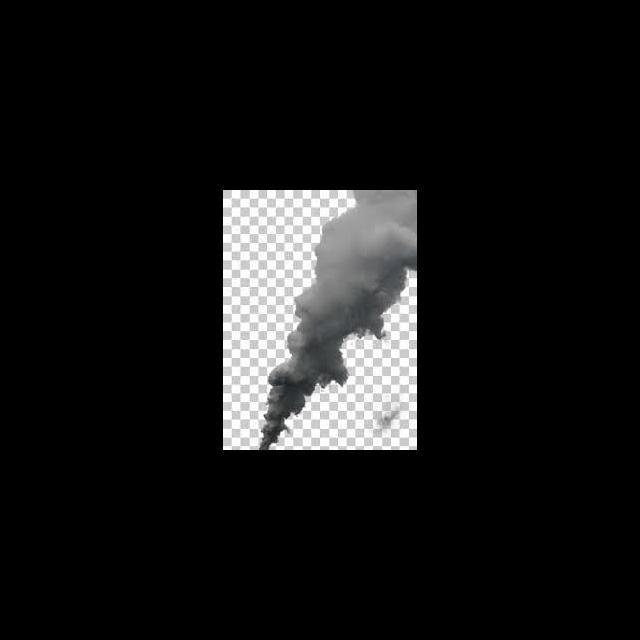Smoke: (259, 190, 417, 450)
